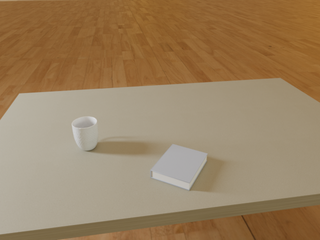book: (151, 144, 207, 190)
cup: (72, 117, 98, 151)
